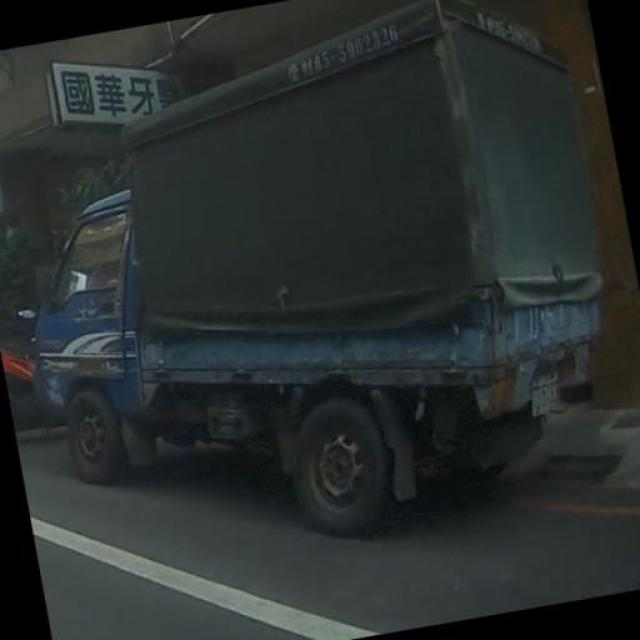illegalparking: (31, 19, 614, 556)
